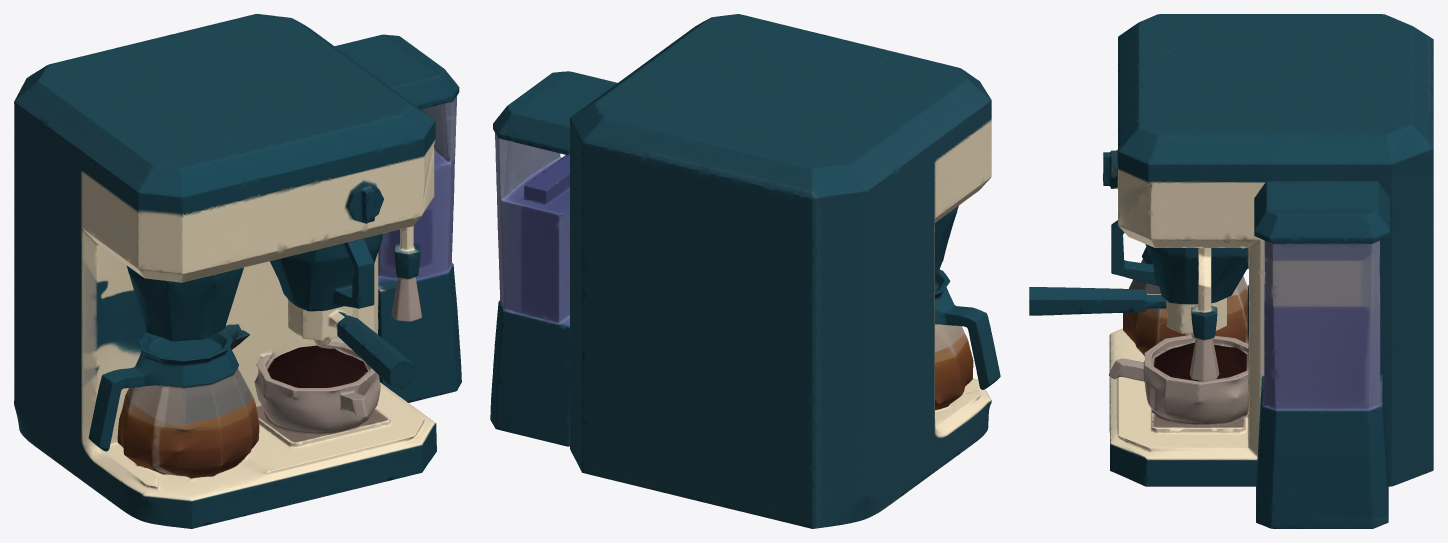
Rendered from Cafetera.glb.
The picture shows the model from 3 angles, left to right: view 1: azimuth 30°, elevation 25°; view 2: azimuth 150°, elevation 25°; view 3: azimuth 270°, elevation 25°; orthographic projection. The views are drawn at different scales.
Bounding box in the file's own units: 1.9 × 1.55 × 1.66.
1 material, 1 textured.
